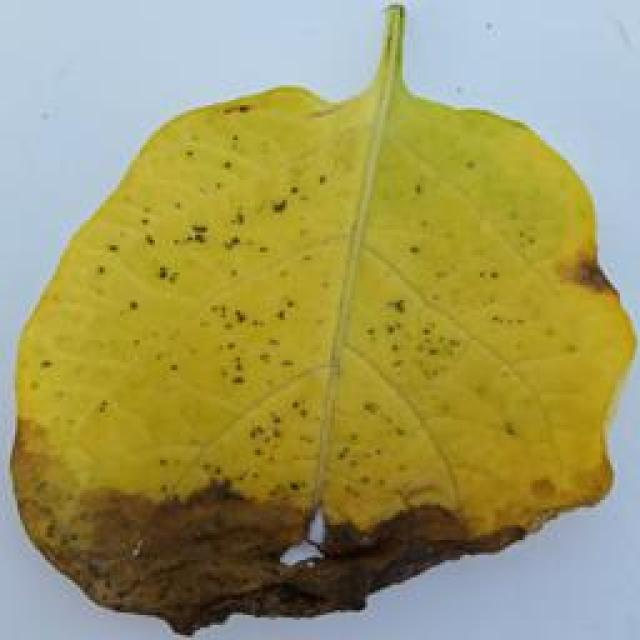Potato_Late_Blight: (15, 6, 626, 632)
